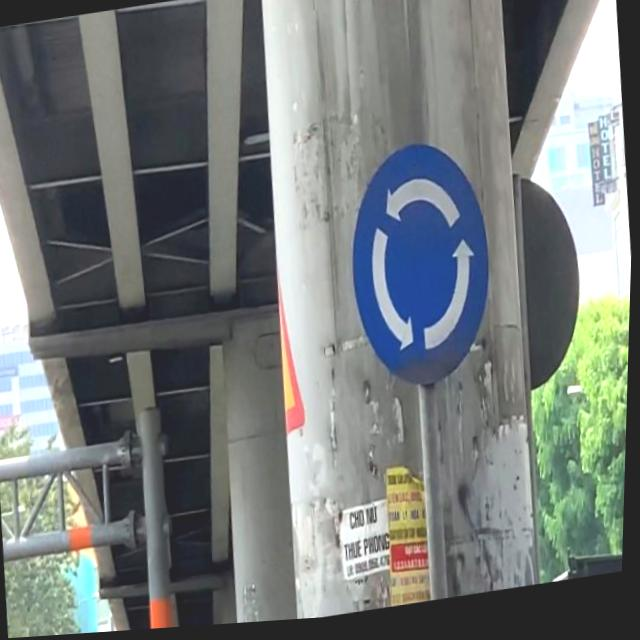Noi giao nhau chay theo vong xuyen: (340, 138, 505, 403)
